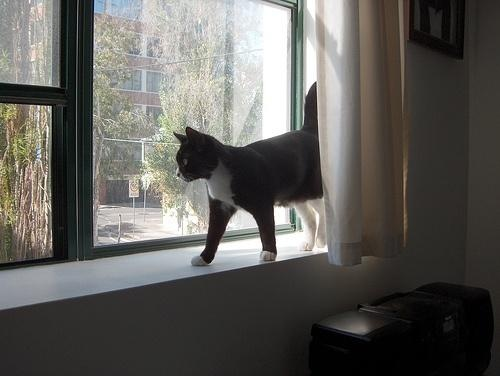cat: (174, 81, 327, 266)
